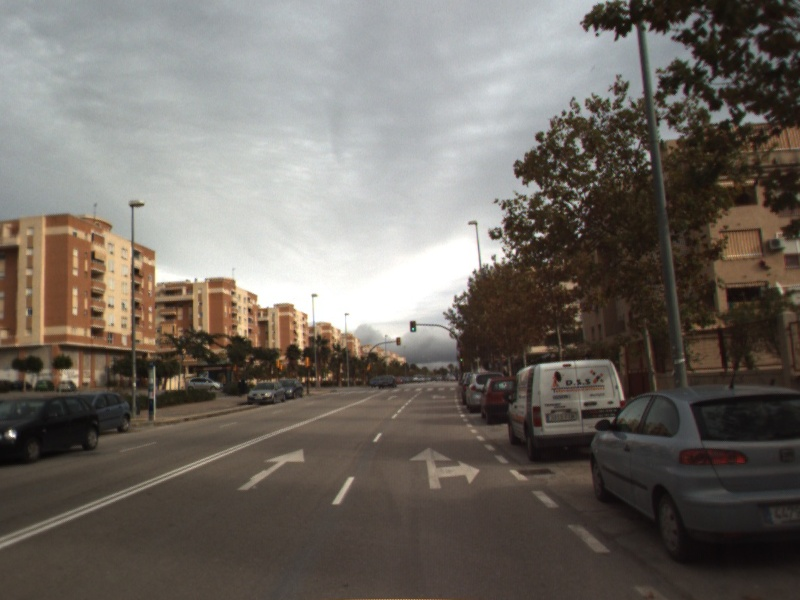STRAIGHT: (235, 447, 306, 492)
STRAIGHT_RIGHT: (407, 445, 482, 491)
